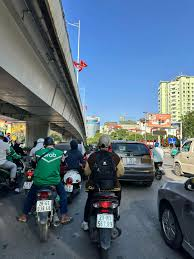Bien-so: (97, 213, 114, 228), (37, 200, 52, 212), (22, 181, 32, 189), (64, 185, 72, 194), (127, 158, 136, 165)
